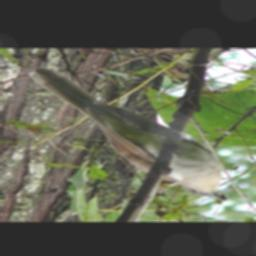Cuckoo: (28, 66, 227, 201)
